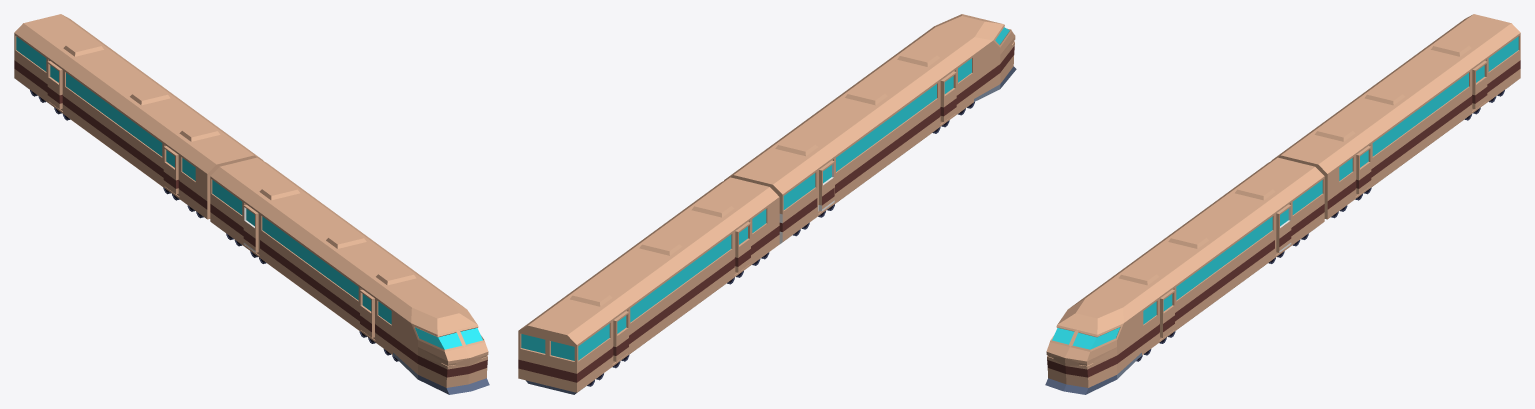
The model's file is train2.fbx.
3 views of the same model, side by side, from view 1: azimuth 30°, elevation 25°; view 2: azimuth 150°, elevation 25°; view 3: azimuth 330°, elevation 25° (orthographic). The views are drawn at different scales.
Parts seen in each view (by area): view 1: Train-2; view 2: Train-2; view 3: Train-2.
Part boxes in pixels (left/top/right/bottom): Train-2: left=14, top=14, right=489, bottom=394; Train-2: left=518, top=14, right=1016, bottom=394; Train-2: left=1045, top=14, right=1520, bottom=394.
Bounding box in the file's own units: 2.15 × 2.11 × 26.52.
